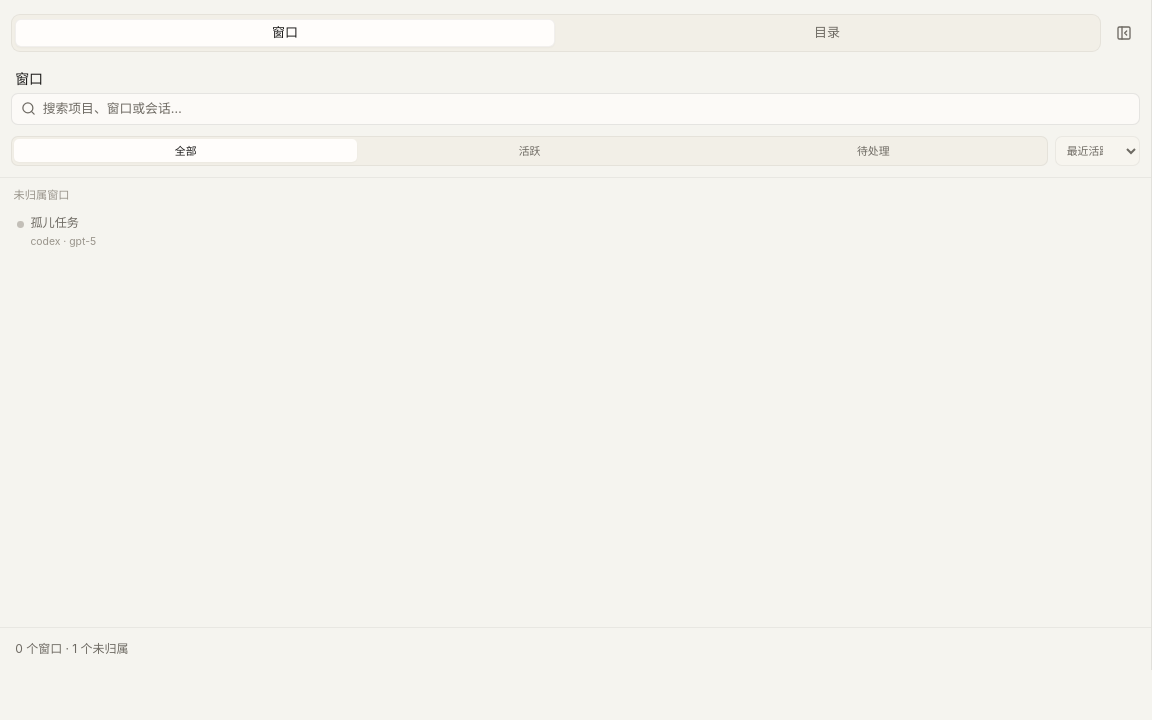
Test: PaseoNavigation › renders orphan agents, selects them and filters them by keyword
This screenshot has width=1152, height=720.
Expected: the heading "未归属窗口" is shown, [14,188,70,202]
Expected: the picture named "已关闭" is shown, [17,221,24,228]
Click the button "孤儿任务 codex · gpt-5" at (55, 223), box [10,209,1141,255]
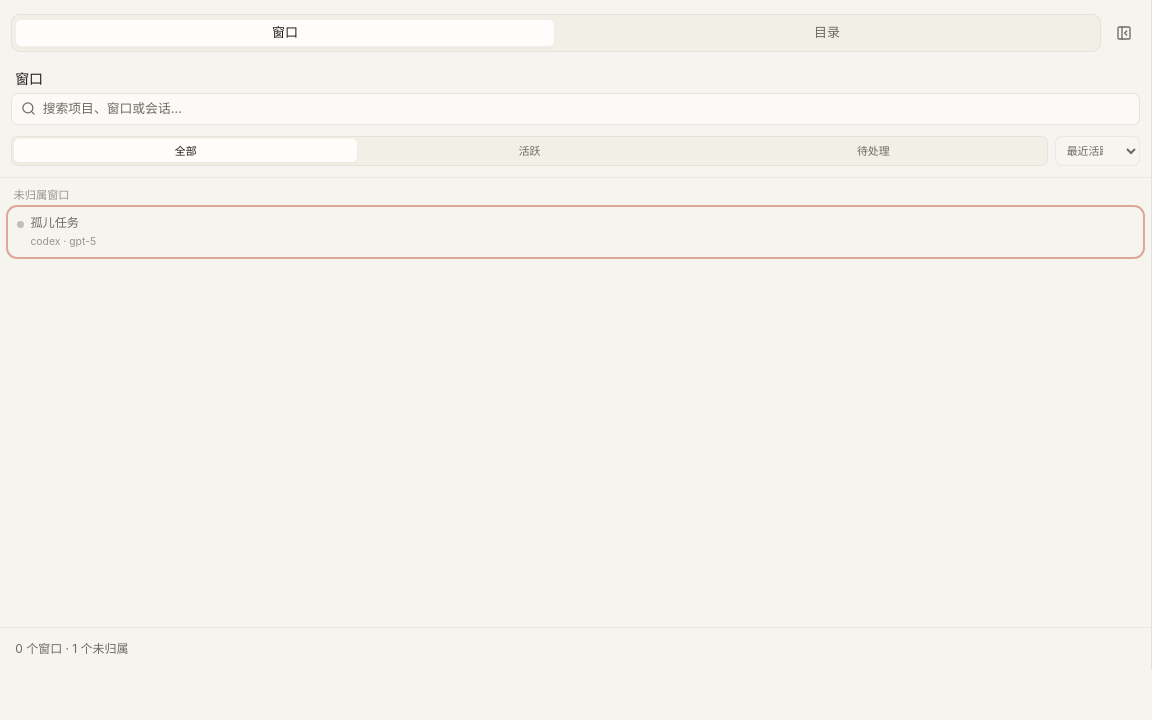
Type "孤儿" into the search field named "搜索 Paseo 项目或窗口" at (586, 109), box [43,94,1130,124]
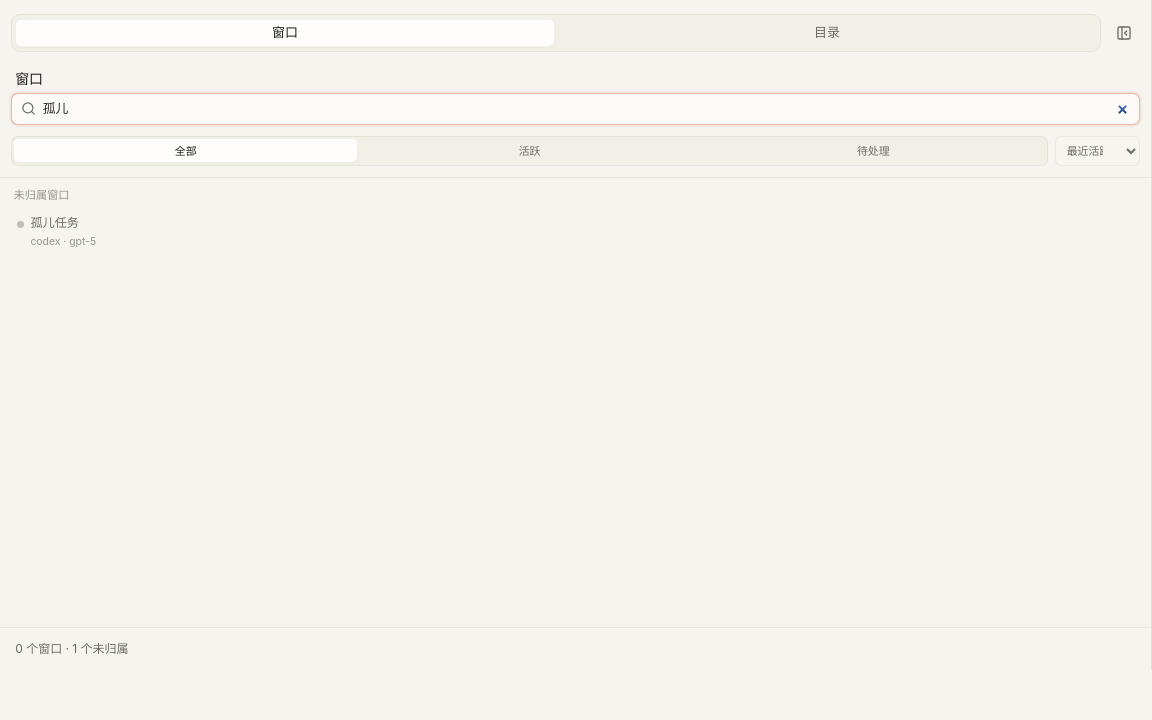
Expected: the button "孤儿任务 codex · gpt-5" is shown, [10,209,1141,255]
Replace the text in the search field named "搜索 Paseo 项目或窗口" with "不存在" at (586, 109), box [43,94,1130,124]
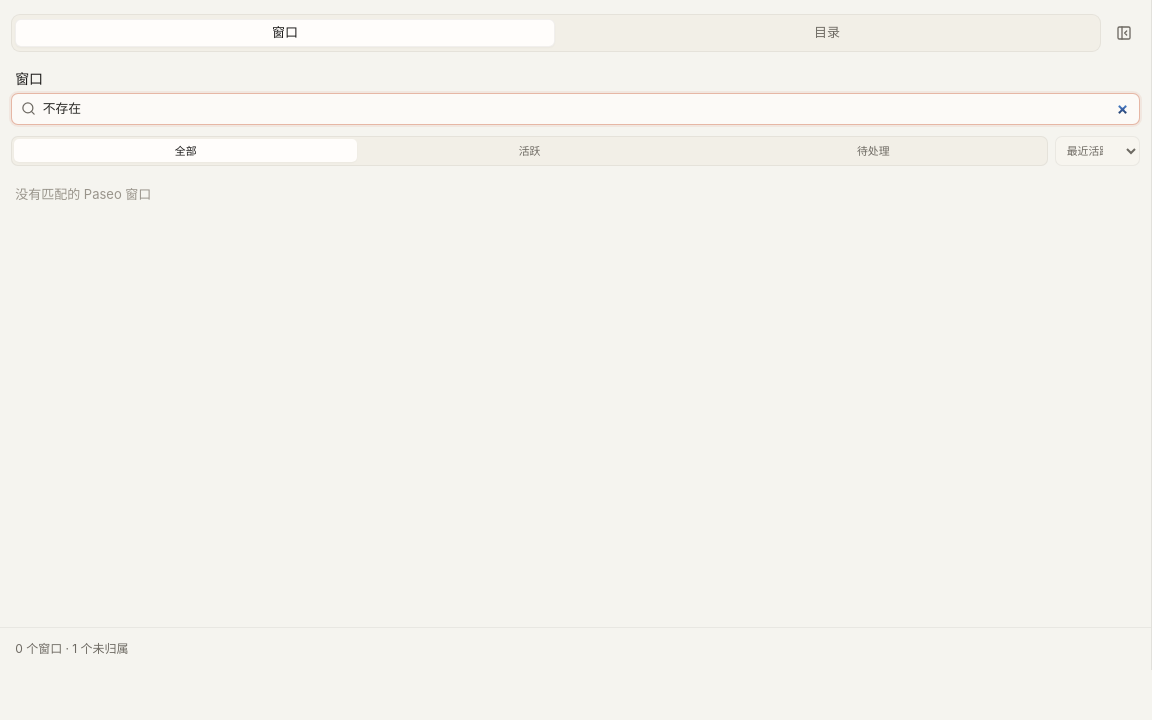
Expected: the text "没有匹配的 Paseo 窗口" is shown, [15,186,151,202]
